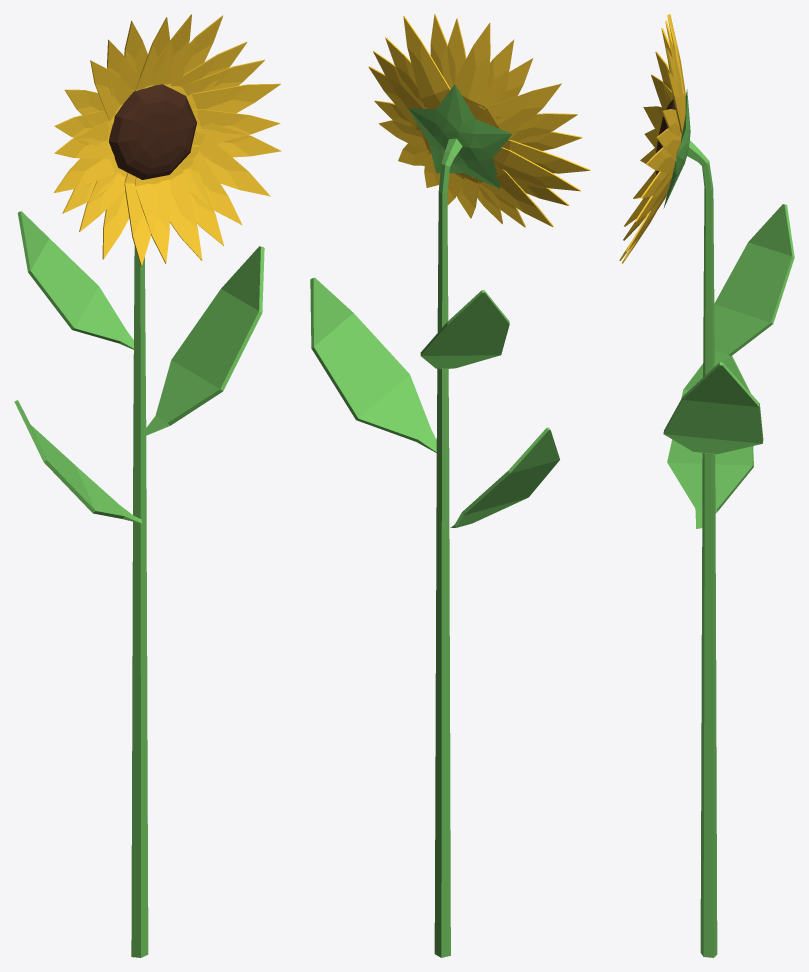
Rendered from sunflower.fbx.
The picture shows the model from 3 angles, left to right: view 1: azimuth 30°, elevation 25°; view 2: azimuth 150°, elevation 25°; view 3: azimuth 270°, elevation 25°; orthographic projection. The views are drawn at different scales.
Parts seen in each view (by area): view 1: Icosphere, Icosphere.006, Icosphere.002, Icosphere.003, Icosphere.001, Icosphere.007, Icosphere.005; view 2: Icosphere, Icosphere.002, Icosphere.003, Icosphere.006, Icosphere.007, Icosphere.005; view 3: Icosphere, Icosphere.007, Icosphere.005, Icosphere.002, Icosphere.003, Icosphere.006.
Boxes of the visible parts, <box> form: Icosphere: <box>131,246,264,957</box>; Icosphere.006: <box>54,17,280,263</box>; Icosphere.002: <box>53,15,280,260</box>; Icosphere.003: <box>54,14,281,266</box>; Icosphere.001: <box>108,84,196,179</box>; Icosphere.007: <box>17,211,134,349</box>; Icosphere.005: <box>14,400,142,523</box>; Icosphere: <box>310,84,511,957</box>; Icosphere.002: <box>368,16,590,226</box>; Icosphere.003: <box>373,14,580,227</box>; Icosphere.006: <box>374,18,582,224</box>; Icosphere.007: <box>420,290,509,368</box>; Icosphere.005: <box>450,427,559,527</box>; Icosphere: <box>663,89,763,957</box>; Icosphere.007: <box>713,204,794,365</box>; Icosphere.005: <box>667,356,753,528</box>; Icosphere.002: <box>619,14,685,260</box>; Icosphere.003: <box>622,14,681,263</box>; Icosphere.006: <box>623,20,682,258</box>.
Bounding box in the file's own units: 855 × 3128 × 536.
